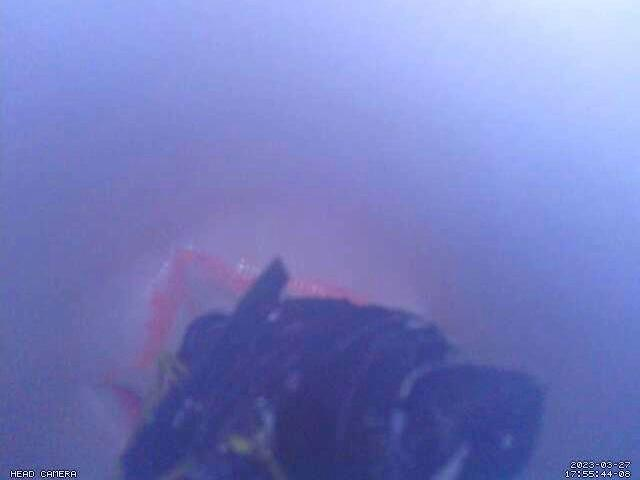head: (98, 248, 368, 442)
